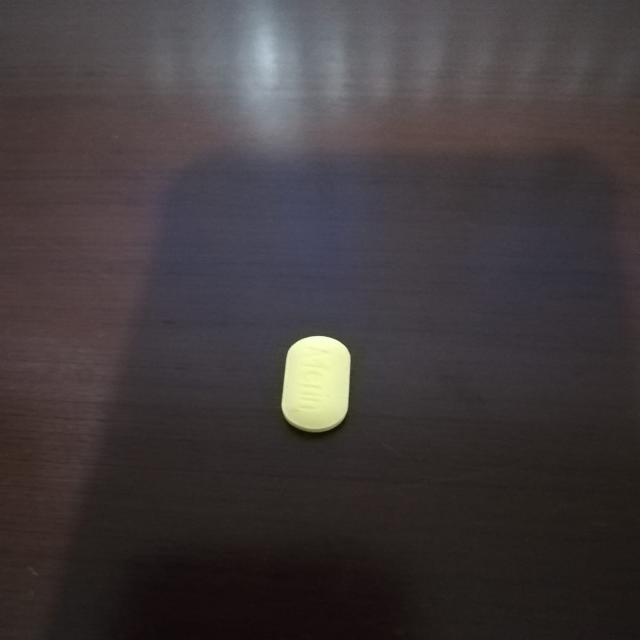pills: (260, 315, 371, 445)
